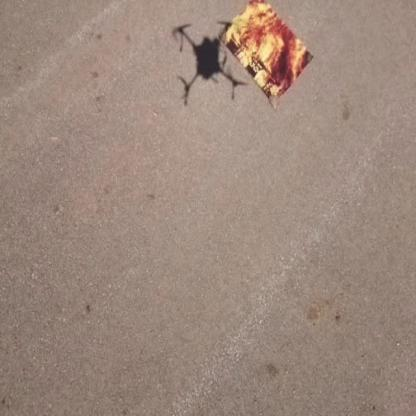fire-poster: (219, 0, 315, 107)
